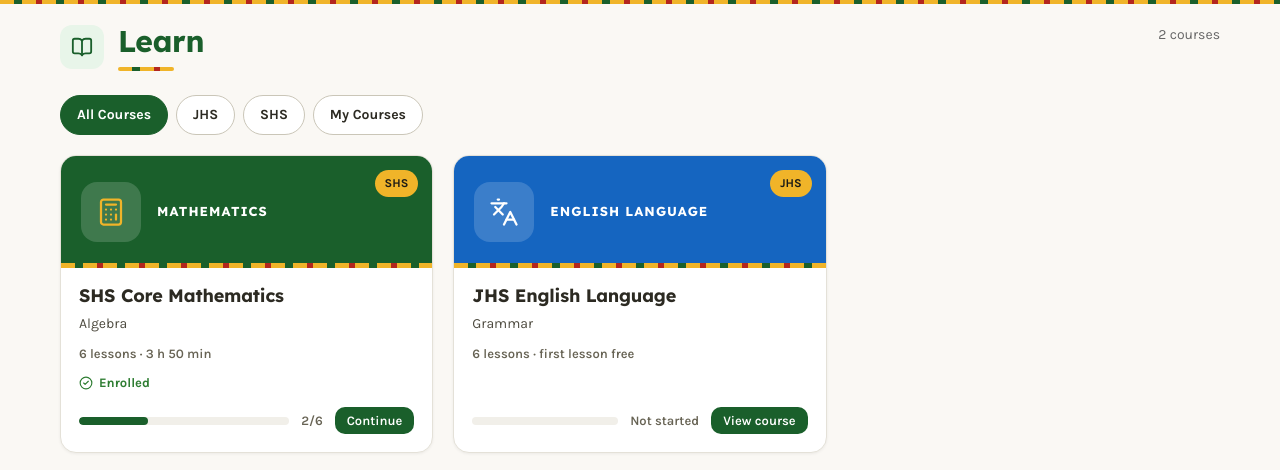
Test: Learn (CourseGrid) › filters by level without refetching
Expected: the link "SHS Core Mathematics" is shown, [79,284,284,306]
Click the button "JHS" at x=206, y=114, box [176,94,235,134]
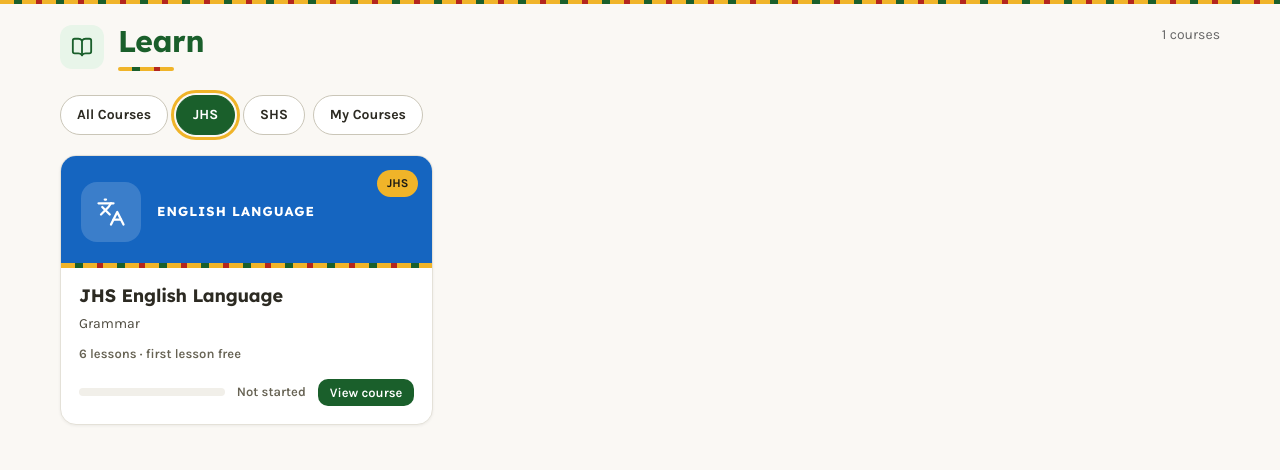
Expected: the link "JHS English Language" is shown, [79,284,283,306]
Now the link "SHS Core Mathematics" is gone
